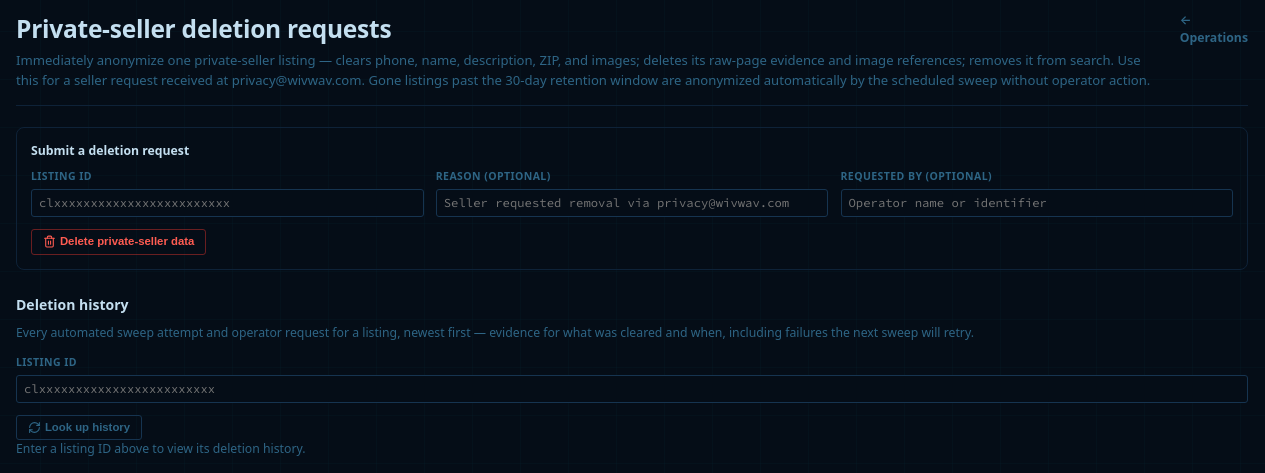
Scenario: PrivacyRequestsClient deletion request › should refuse to submit without a listing ID
The image size is (1265, 473).
Click the button "Delete private-seller data": (118, 242) [31,229,206,255]
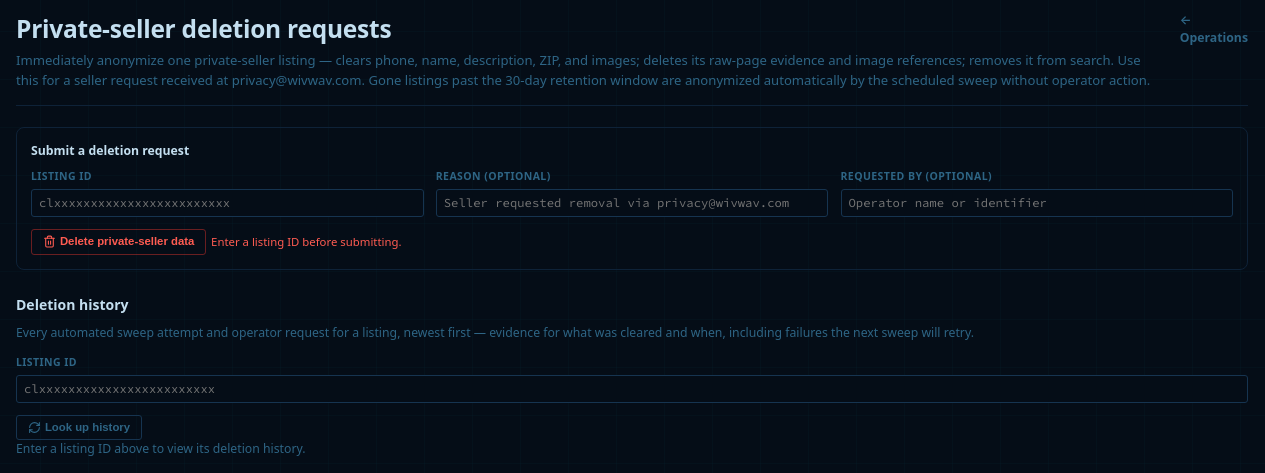
Result: the text "Enter a listing ID before submitting." is shown at [211,233,402,250]
